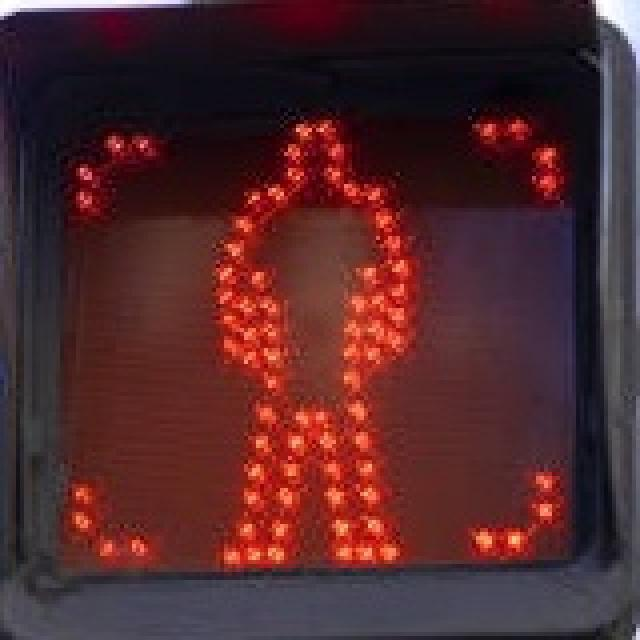red-crossing: (180, 92, 440, 576)
